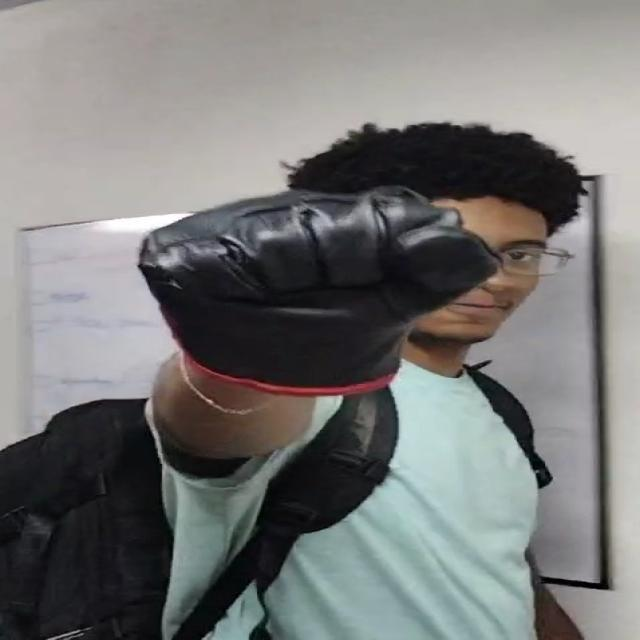Gloves: (137, 195, 500, 396)
